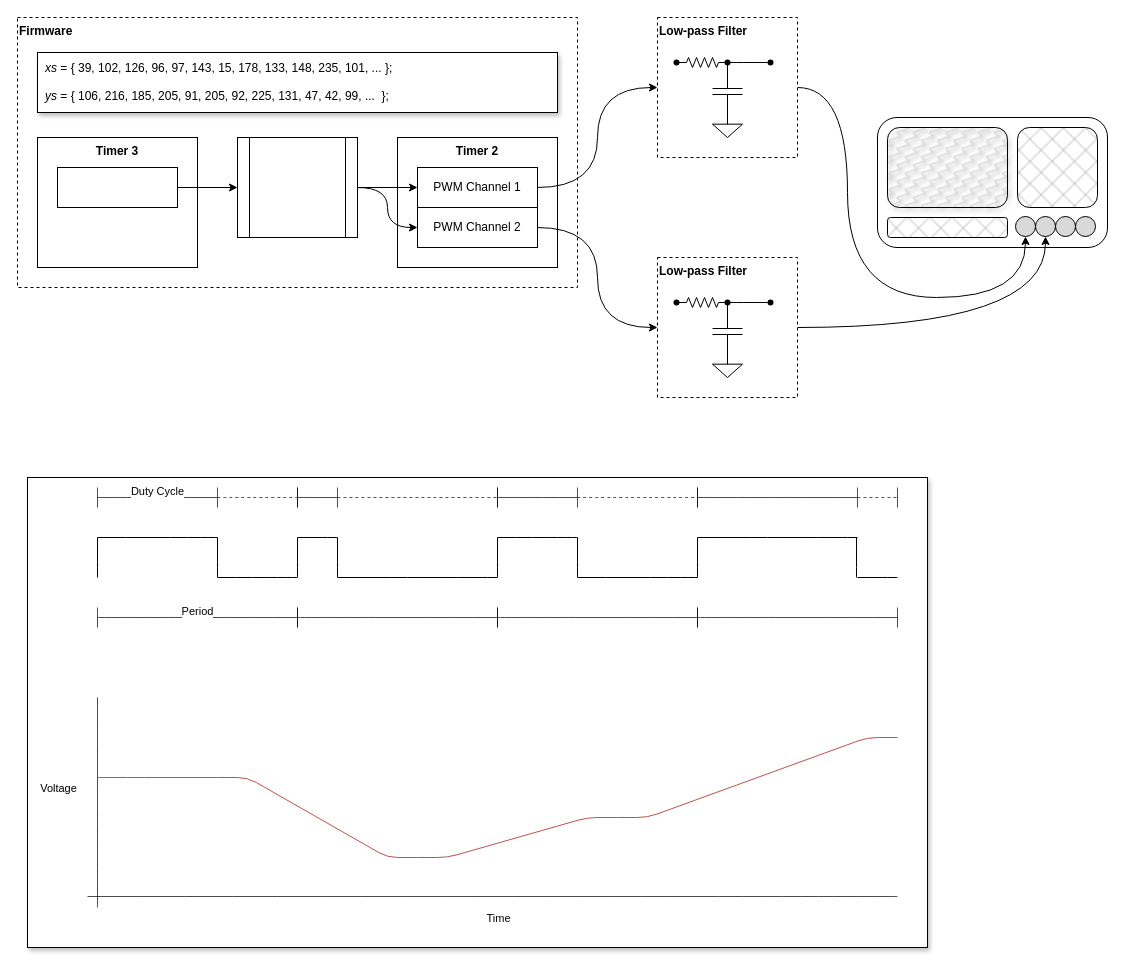
The diagram is 1125 pixels wide and 972 high, and some of its shapes have lost their labels. Here are the shapes that lost their labels. From the top down, the centre of each, then its label:
(117,187): Interrupt
(297,187): Update duty cycles according to X and Y arrays
